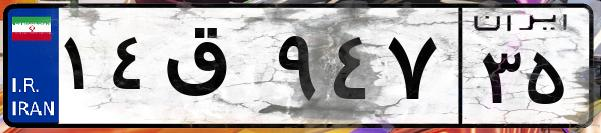1: (57, 26, 110, 100)
3: (475, 38, 525, 113)
4: (330, 28, 385, 110), (110, 28, 158, 98)
5: (525, 38, 570, 115)
7: (385, 28, 445, 110)
9: (270, 28, 330, 110)
ق: (158, 20, 270, 120)
